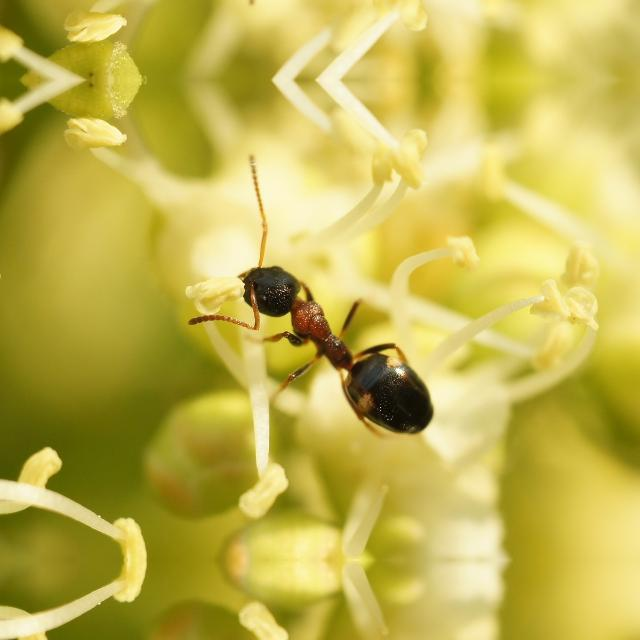Dolichoderus: (192, 225, 456, 448)
